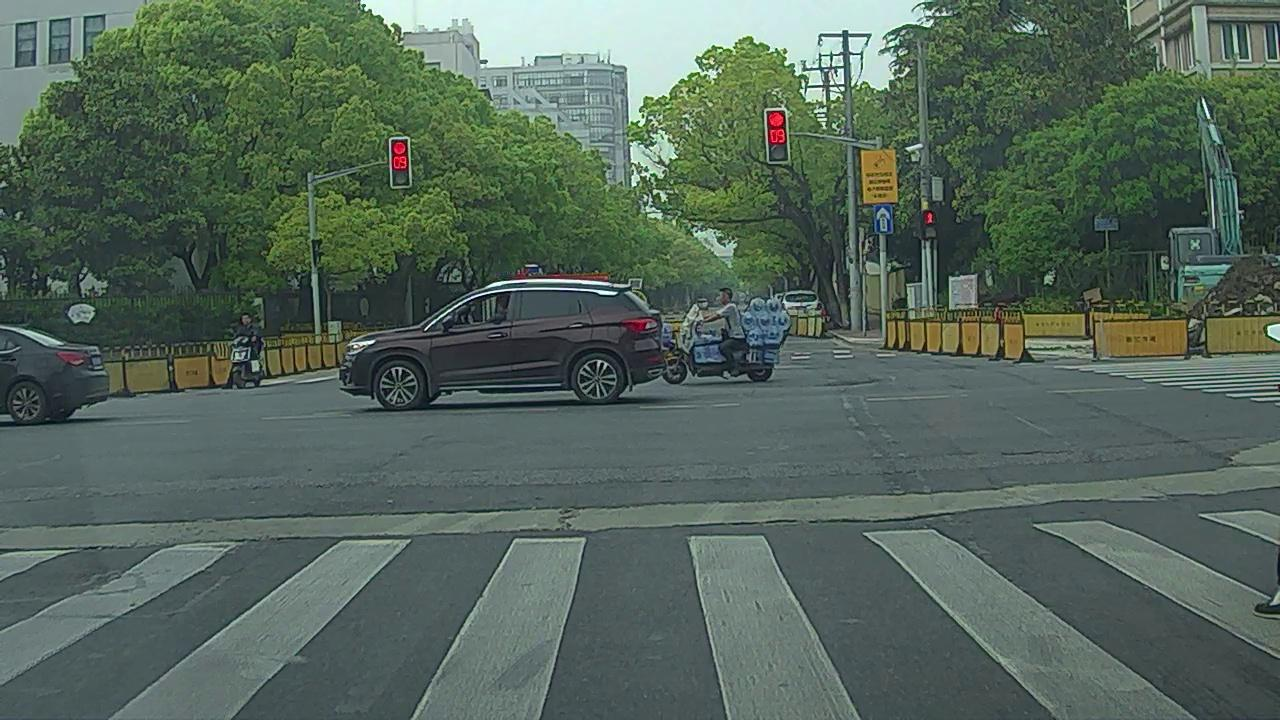traffic_light: (767, 112, 789, 163), (387, 140, 410, 187)
